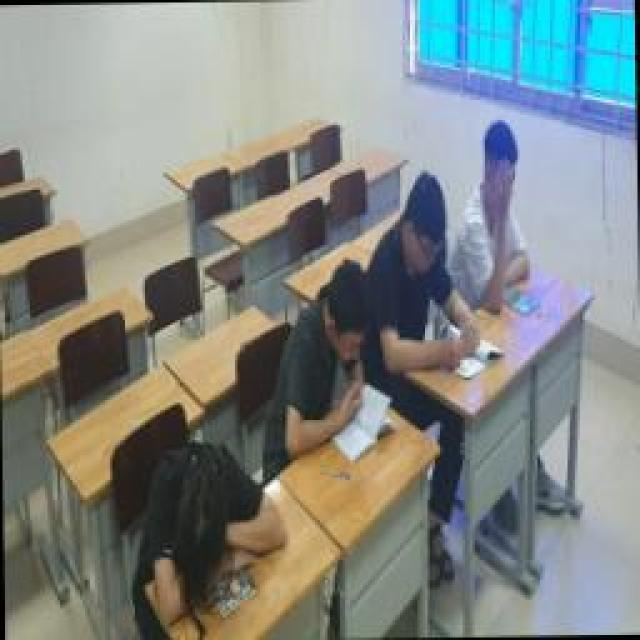sleep: (145, 448, 285, 610)
study: (275, 260, 393, 455), (375, 172, 480, 378), (450, 117, 538, 315)
